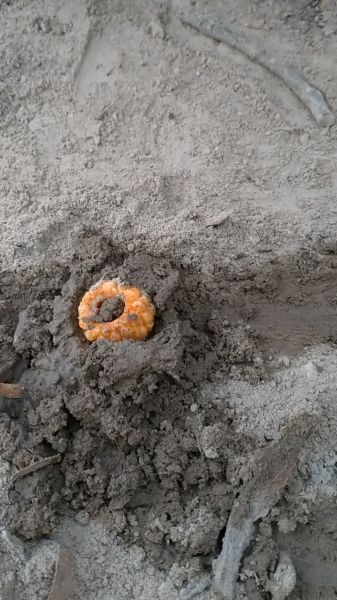eggs: (70, 277, 166, 352)
